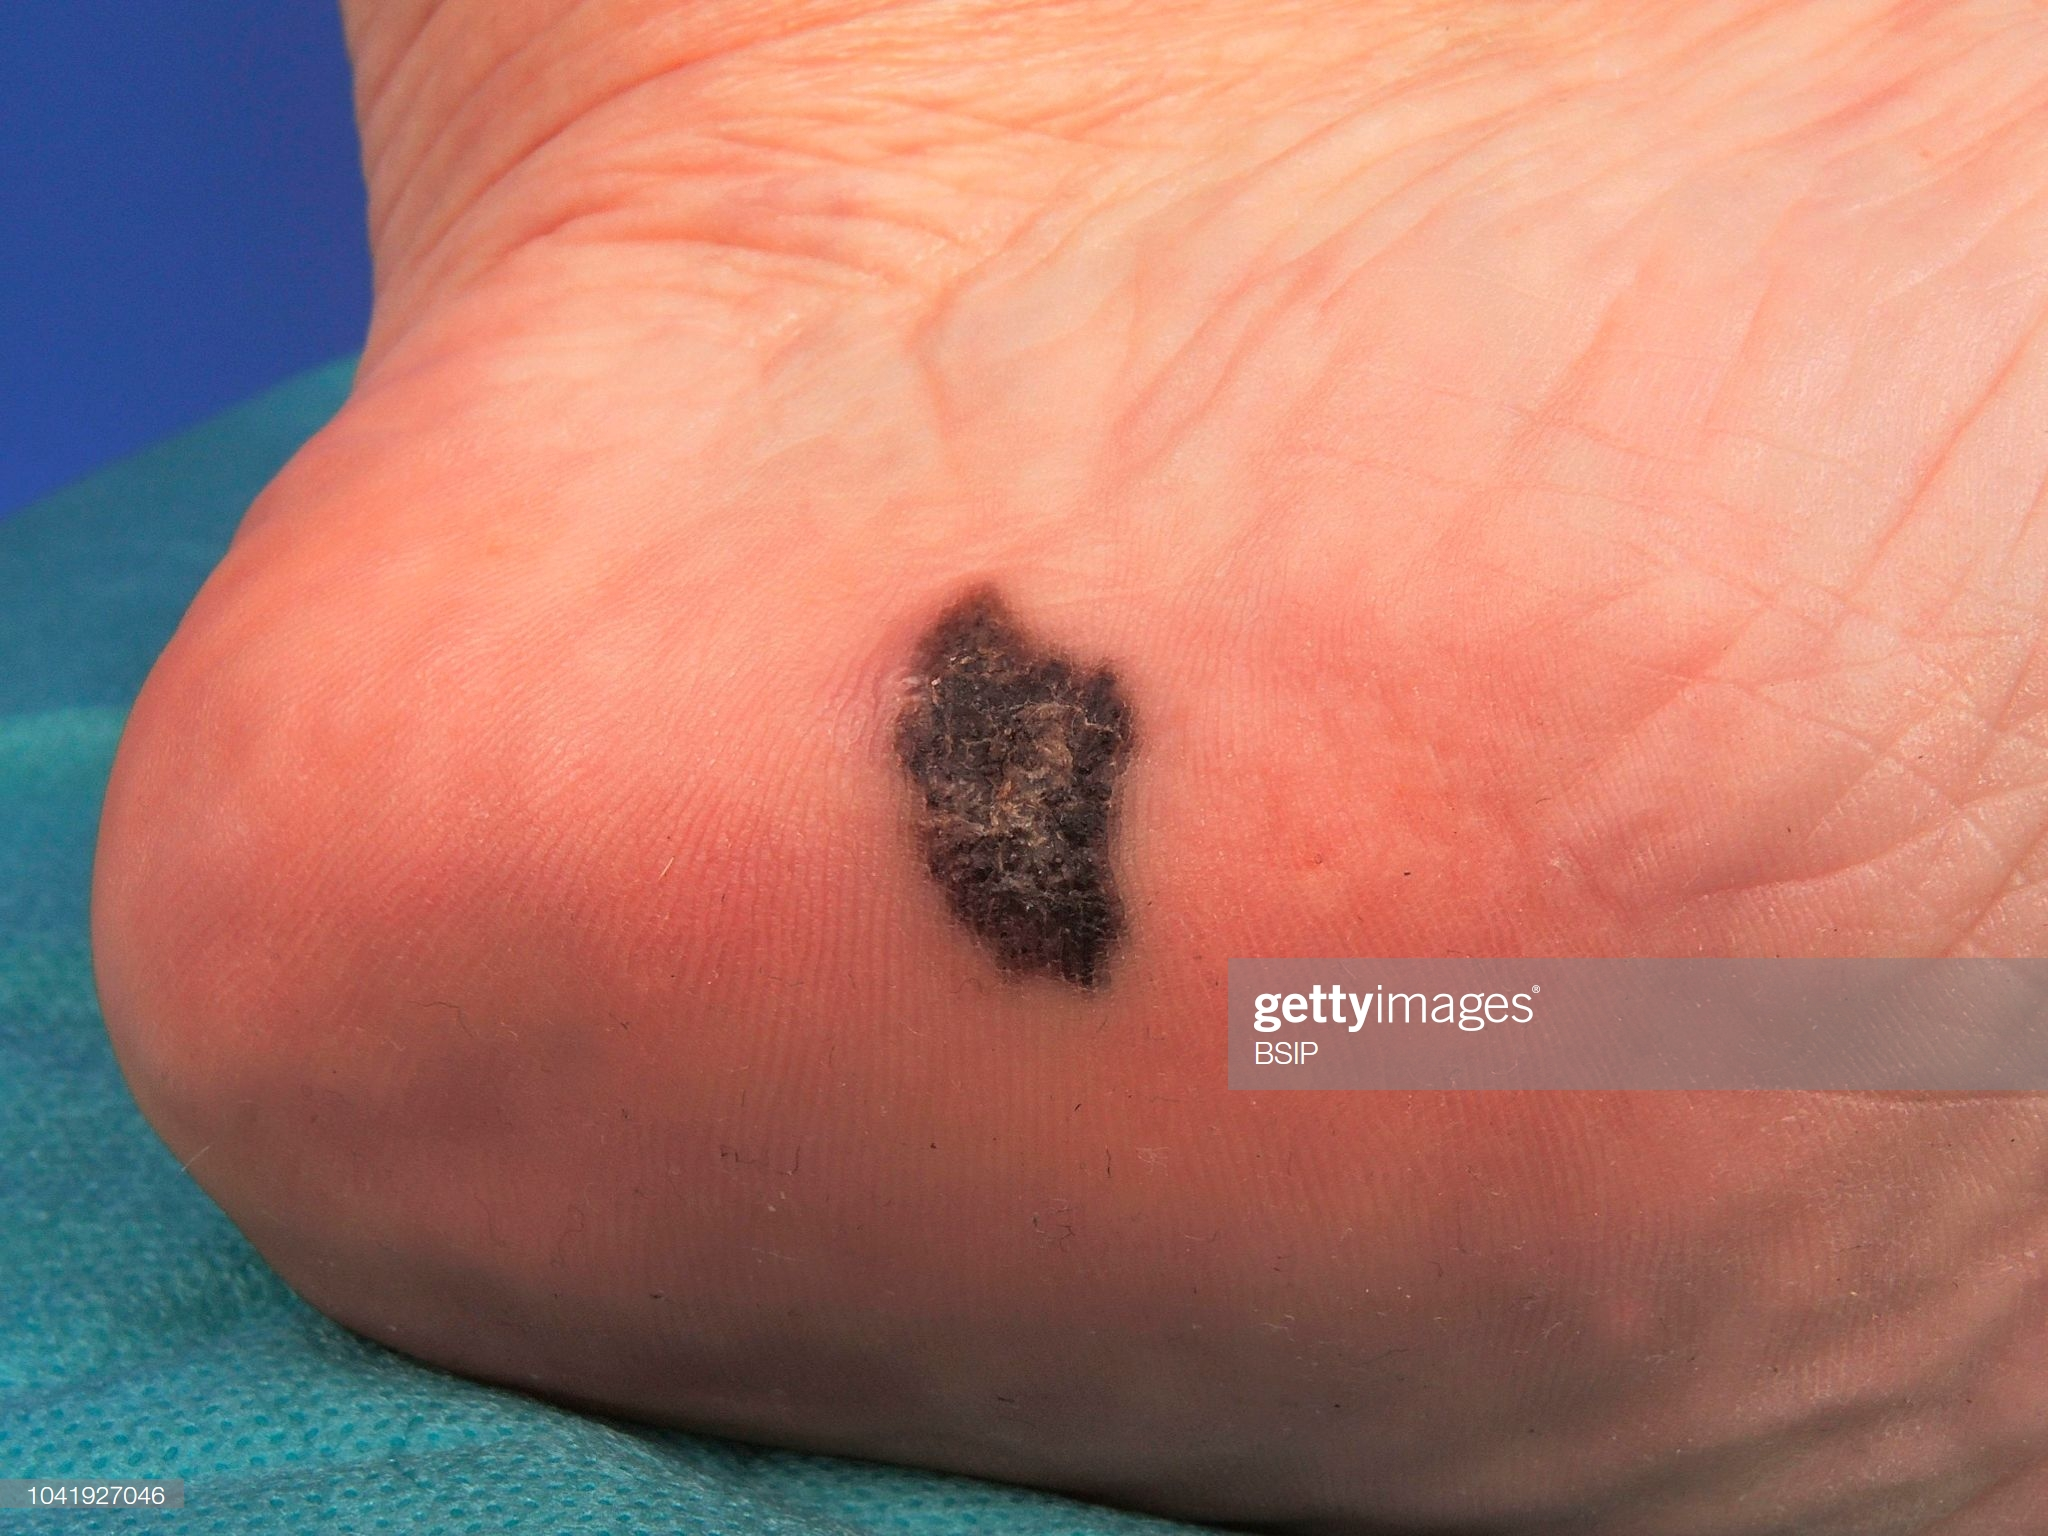melanoma: (822, 536, 1243, 1023)
